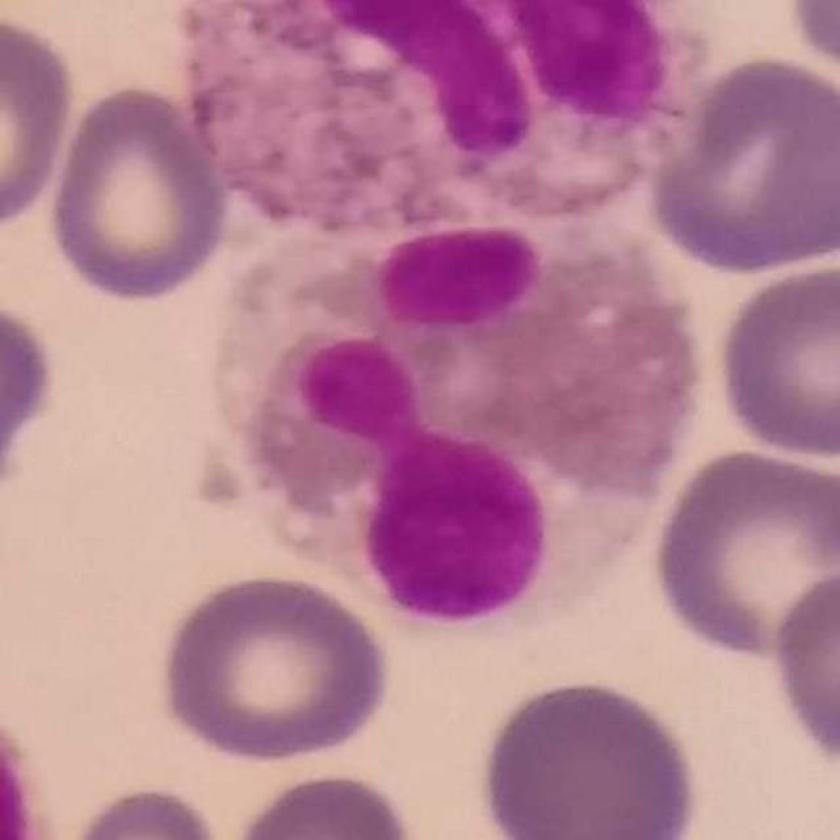eosinophil: (188, 232, 738, 651), (171, 4, 742, 240)
